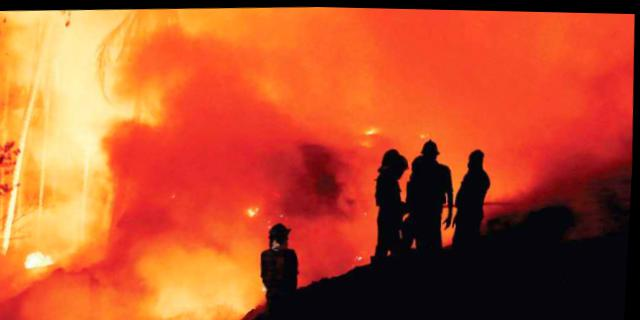fire: (148, 272, 256, 319), (22, 250, 64, 269), (362, 123, 380, 138), (245, 202, 259, 219)
smoke: (349, 6, 635, 126), (113, 125, 239, 241), (260, 129, 354, 216), (493, 113, 635, 166), (0, 274, 126, 319), (495, 161, 620, 201), (118, 30, 190, 92), (183, 50, 244, 122), (298, 219, 372, 259)
